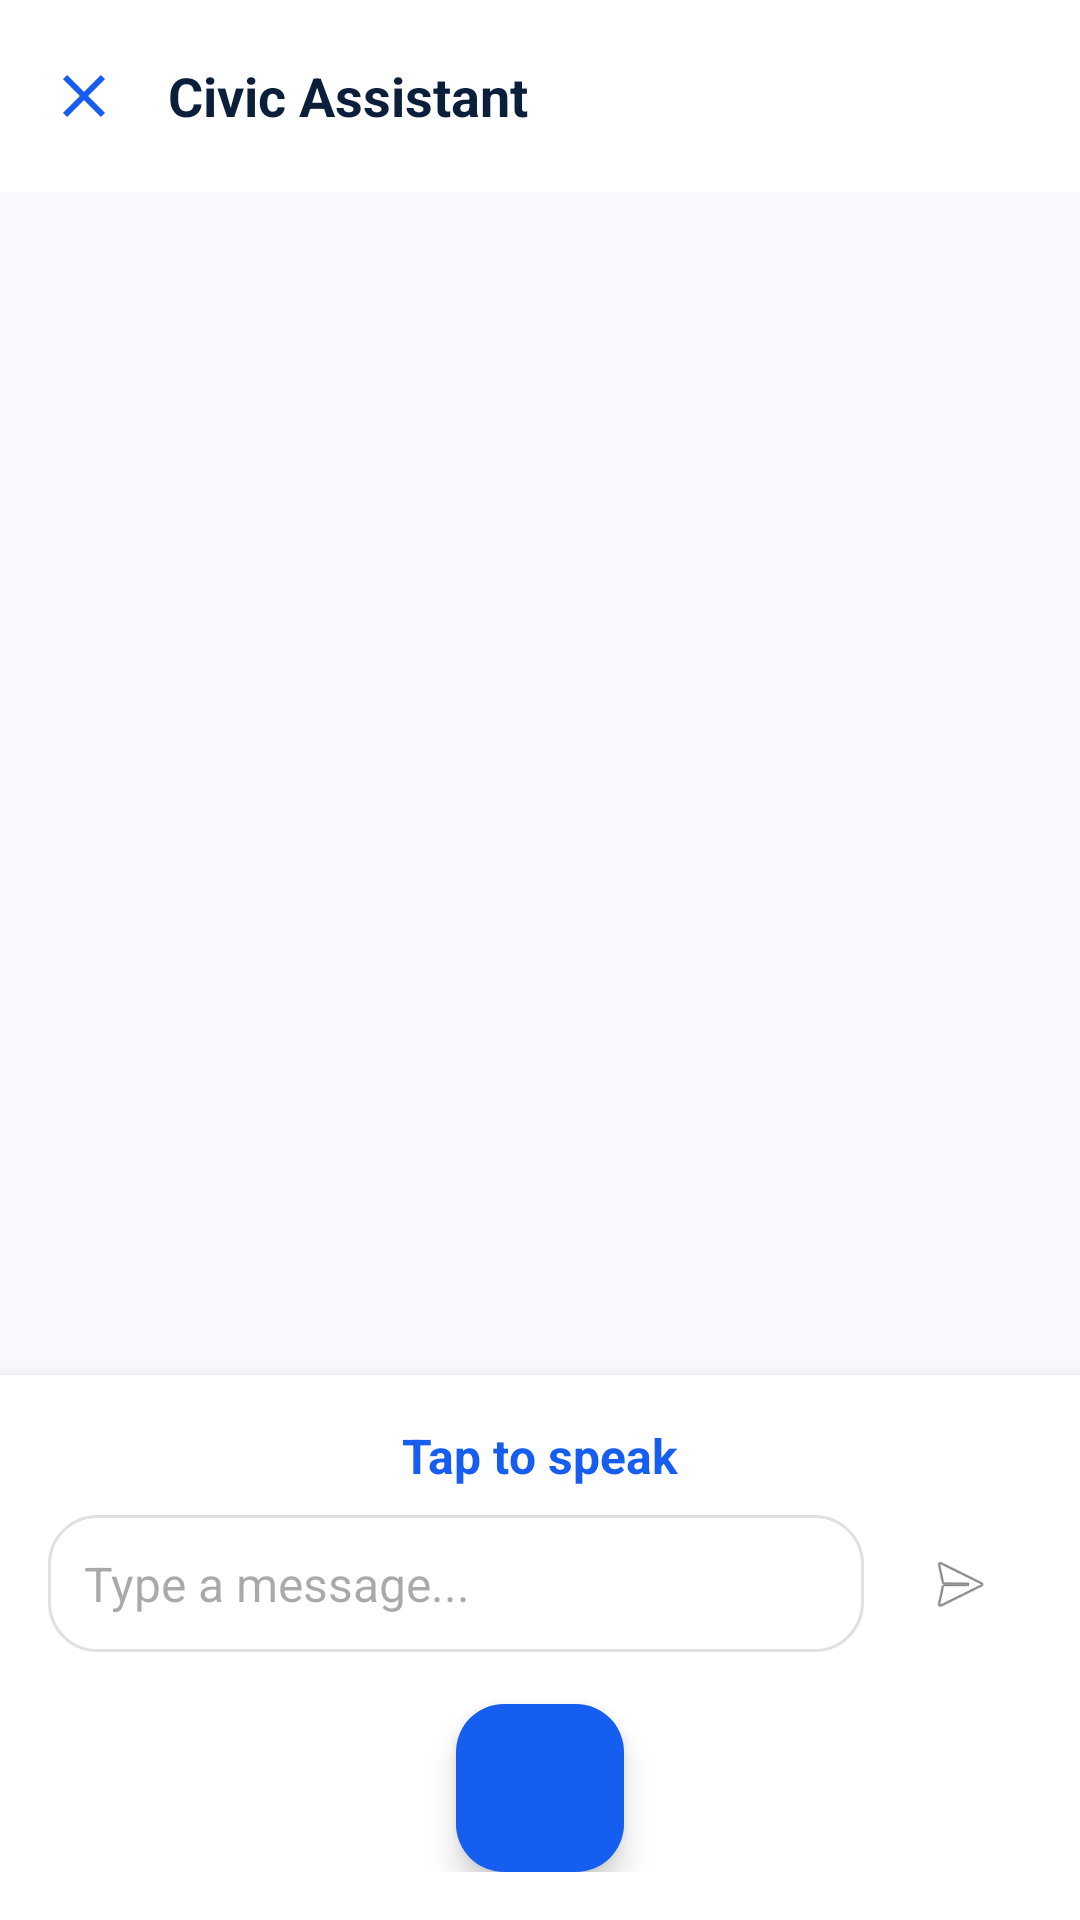

Locate icon controls on the screen. Image size 1080x1920, boxes as (x1, y1, x2, y2).
send: (937, 1562, 984, 1607)
